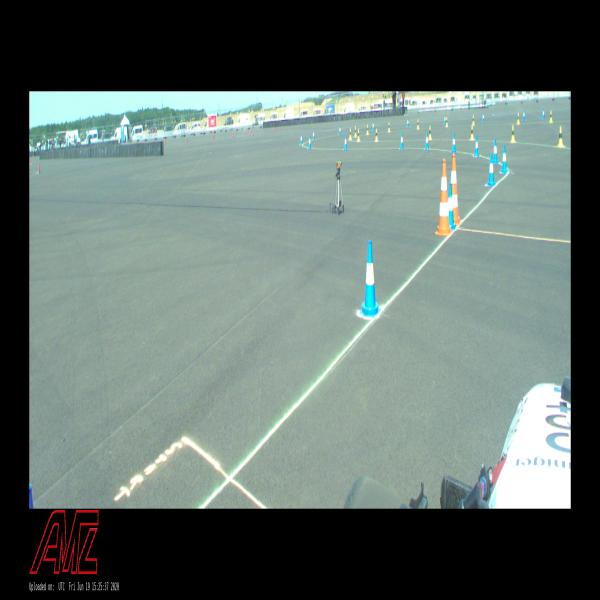blue_cone: (360, 241, 381, 318), (448, 183, 456, 230), (488, 154, 495, 186), (501, 145, 508, 173), (493, 139, 498, 163), (474, 135, 479, 157), (452, 134, 456, 152), (425, 132, 429, 150), (400, 132, 404, 149), (344, 135, 347, 150), (309, 136, 311, 148), (542, 109, 544, 119), (523, 110, 525, 120), (300, 134, 302, 144), (313, 130, 315, 140), (407, 118, 409, 127), (444, 115, 446, 124), (339, 126, 341, 135), (482, 113, 484, 121), (373, 122, 374, 130)
large_orange_cone: (435, 159, 453, 236), (451, 154, 462, 225)
yellow_cone: (558, 126, 564, 146), (511, 125, 515, 142), (470, 125, 474, 140), (429, 126, 432, 140), (375, 129, 378, 142), (357, 129, 360, 142), (349, 128, 352, 140), (354, 126, 357, 138), (517, 113, 520, 124), (472, 115, 475, 125), (366, 125, 369, 135), (550, 111, 552, 122), (446, 117, 448, 127), (388, 122, 390, 132), (417, 120, 419, 128)
